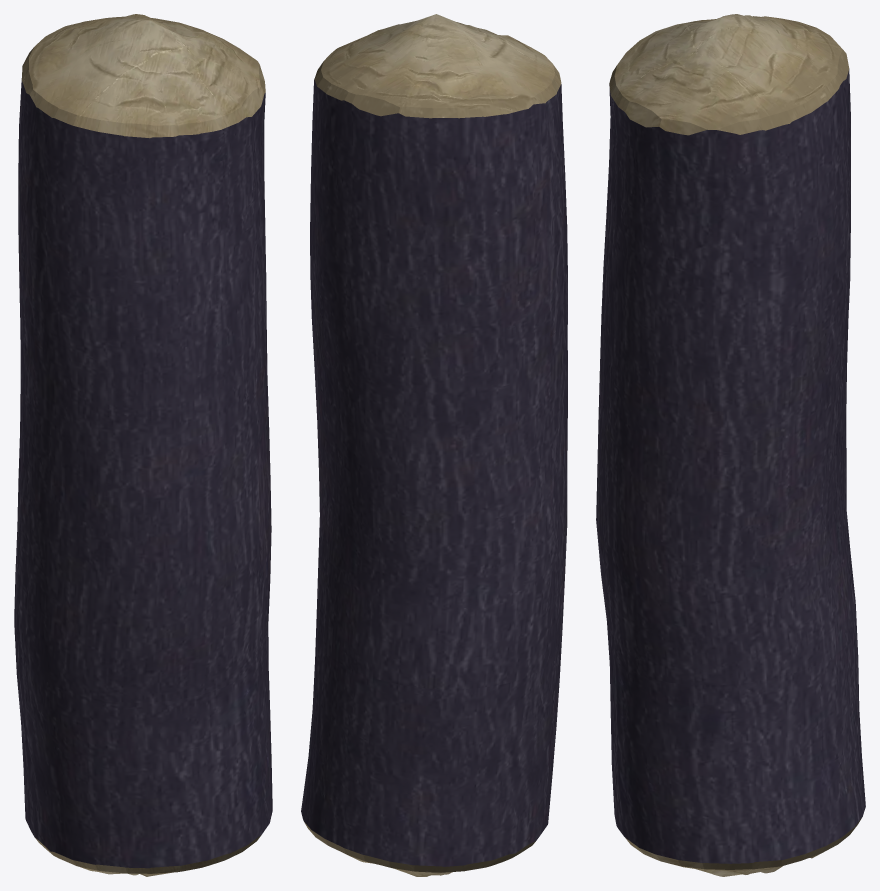
3 renders of one model, left to right at view 1: azimuth 30°, elevation 25°; view 2: azimuth 150°, elevation 25°; view 3: azimuth 270°, elevation 25°, orthographic.
Parts seen in each view (by area): view 1: SM_GF_Oak_Tree_01_quarter_03_LOD0; view 2: SM_GF_Oak_Tree_01_quarter_03_LOD0; view 3: SM_GF_Oak_Tree_01_quarter_03_LOD0.
Boxes of the visible parts, <box> form: SM_GF_Oak_Tree_01_quarter_03_LOD0: <box>14,14,272,876</box>; SM_GF_Oak_Tree_01_quarter_03_LOD0: <box>301,14,567,876</box>; SM_GF_Oak_Tree_01_quarter_03_LOD0: <box>596,14,865,876</box>.
Size of the model in its own units: 0.7816 by 2.79 by 0.7984.
1 material, 1 textured.
